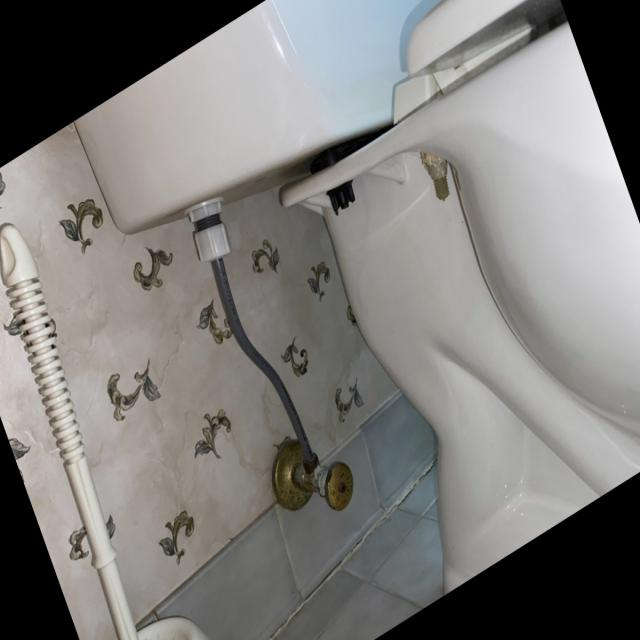good_bolt: (327, 181, 356, 211)
good_coupler: (194, 221, 231, 261)
good_line: (206, 243, 320, 482)
rusty_valve: (288, 458, 353, 512)
